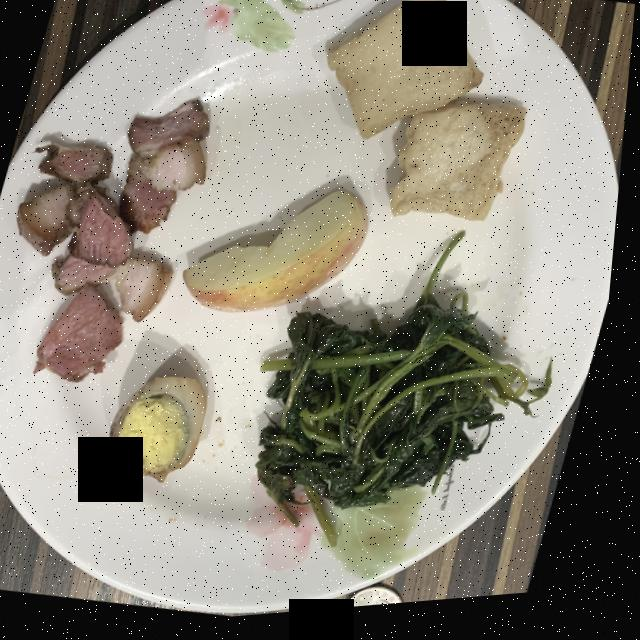apple -sliced-: (189, 197, 373, 316)
coin: (357, 593, 415, 614)
creamy tofu -without sauce-: (328, 0, 530, 230)
grilled pork: (21, 104, 212, 384)
soy egg: (118, 380, 215, 486)
sweet potato leaves: (265, 240, 560, 554)
